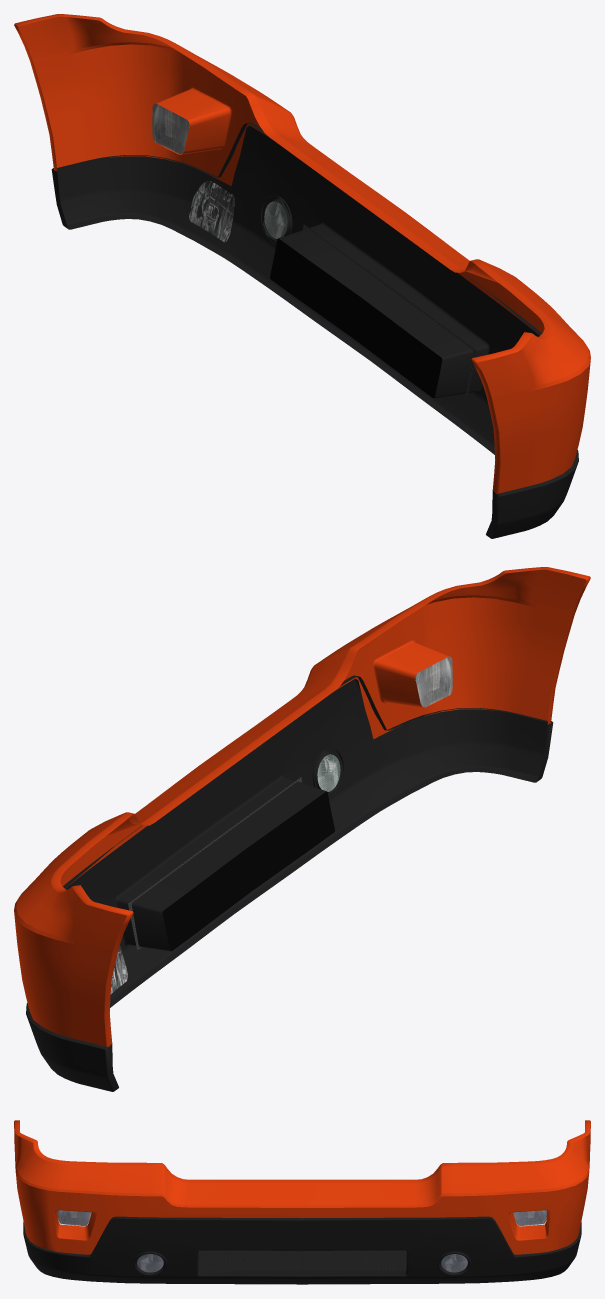
The picture shows the model from 3 angles, top to bottom: view 1: azimuth 30°, elevation 25°; view 2: azimuth 150°, elevation 25°; view 3: azimuth 270°, elevation 25°; orthographic projection. The views are drawn at different scales.
Visible parts, largest first — view 1: U843_9A_021G_C_2_D_U843_9A_021G_C, U843_9A_021G_C_U843_9A_021G_C_1_DaS, U843_9A_021G_C_2_D_U843_9A_021G_C_E, U843_9A_021G_C_U843_9A_021G_C_1_DaS_E, U843_9A_021G_C_U843_9A_021G_C_3_N; view 2: U843_9A_021G_C_2_D_U843_9A_021G_C, U843_9A_021G_C_U843_9A_021G_C_1_DaS, U843_9A_021G_C_2_D_U843_9A_021G_C_E, U843_9A_021G_C_U843_9A_021G_C_1_DaS_E, U843_9A_021G_C_U843_9A_021G_C_3_N; view 3: U843_9A_021G_C_U843_9A_021G_C_1_DaS, U843_9A_021G_C_2_D_U843_9A_021G_C, U843_9A_021G_C_U843_9A_021G_C_1_DaS_E, U843_9A_021G_C_U843_9A_021G_C_6_D, U843_9A_021G_C_U843_9A_021G_C_3_N, U843_9A_021G_C_2_D_U843_9A_021G_C_E, U843_9A_021G_C_U843_9A_021G_C_5_DTaSI, U843_9A_021G_C_U843_9A_021G_C_4_DTaSI, U843_9A_021G_C_U843_9A_021G_C_7_DTaSI, U843_9A_021G_C_U843_9A_021G_C_8_DTaSI.
Part boxes in pixels (<box>): U843_9A_021G_C_2_D_U843_9A_021G_C: <box>51,122,578,538</box>; U843_9A_021G_C_U843_9A_021G_C_1_DaS: <box>18,16,590,493</box>; U843_9A_021G_C_2_D_U843_9A_021G_C_E: <box>66,125,578,538</box>; U843_9A_021G_C_U843_9A_021G_C_1_DaS_E: <box>14,14,590,493</box>; U843_9A_021G_C_U843_9A_021G_C_3_N: <box>152,103,287,242</box>; U843_9A_021G_C_2_D_U843_9A_021G_C: <box>26,675,553,1091</box>; U843_9A_021G_C_U843_9A_021G_C_1_DaS: <box>14,569,586,1046</box>; U843_9A_021G_C_2_D_U843_9A_021G_C_E: <box>26,678,538,1091</box>; U843_9A_021G_C_U843_9A_021G_C_1_DaS_E: <box>14,567,590,1046</box>; U843_9A_021G_C_U843_9A_021G_C_3_N: <box>110,656,452,994</box>; U843_9A_021G_C_U843_9A_021G_C_1_DaS: <box>14,1126,590,1254</box>; U843_9A_021G_C_2_D_U843_9A_021G_C: <box>23,1216,581,1284</box>; U843_9A_021G_C_U843_9A_021G_C_1_DaS_E: <box>14,1120,590,1240</box>; U843_9A_021G_C_U843_9A_021G_C_6_D: <box>198,1250,406,1270</box>; U843_9A_021G_C_U843_9A_021G_C_3_N: <box>58,1210,546,1272</box>; U843_9A_021G_C_2_D_U843_9A_021G_C_E: <box>23,1217,581,1275</box>; U843_9A_021G_C_U843_9A_021G_C_5_DTaSI: <box>513,1210,546,1226</box>; U843_9A_021G_C_U843_9A_021G_C_4_DTaSI: <box>58,1210,90,1226</box>; U843_9A_021G_C_U843_9A_021G_C_7_DTaSI: <box>441,1254,467,1272</box>; U843_9A_021G_C_U843_9A_021G_C_8_DTaSI: <box>137,1254,163,1272</box>.
Size of the model in its own units: 38.24 by 43.66 by 184.
